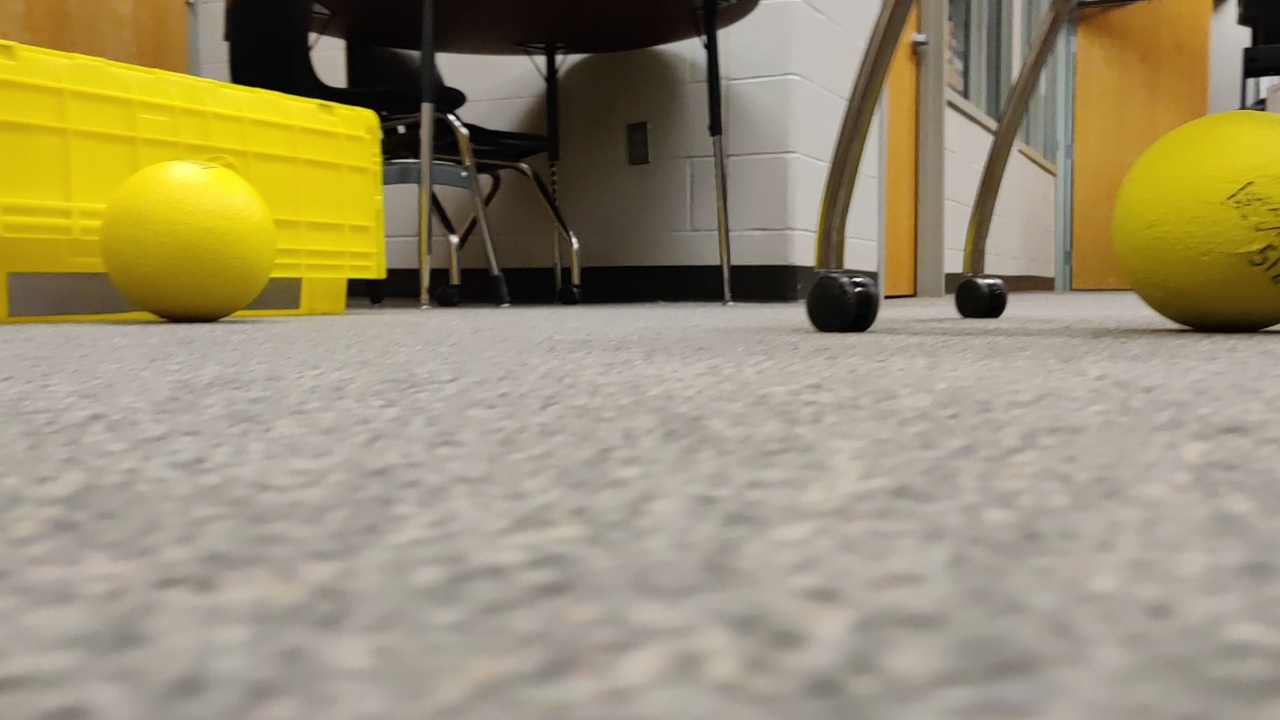Ball: (1107, 105, 1280, 335), (101, 158, 277, 323)
